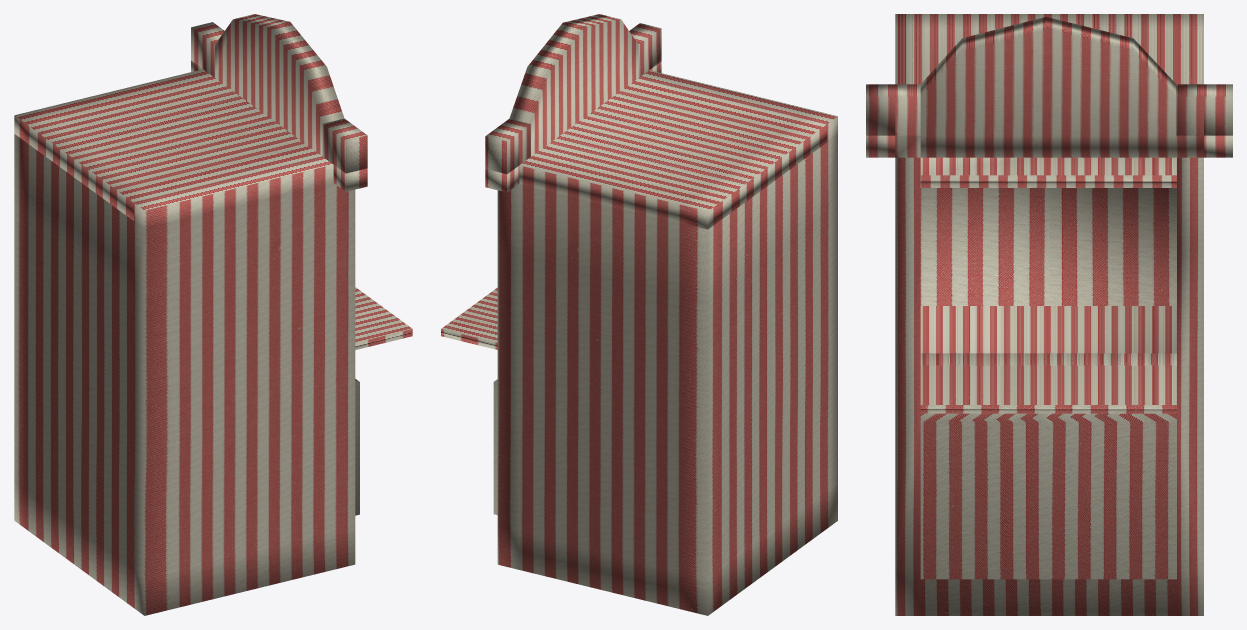
File: Booth.fbx
The picture shows the model from 3 angles, left to right: view 1: azimuth 30°, elevation 25°; view 2: azimuth 150°, elevation 25°; view 3: azimuth 270°, elevation 25°; orthographic projection. The views are drawn at different scales.
Parts seen in each view (by area): view 1: pCube1; view 2: pCube1; view 3: pCube1.
Part boxes in pixels (<box>): pCube1: <box>14,14,412,615</box>; pCube1: <box>441,14,837,615</box>; pCube1: <box>866,14,1232,615</box>.
Size of the model in its own units: 6.82 by 11.58 by 6.56.
